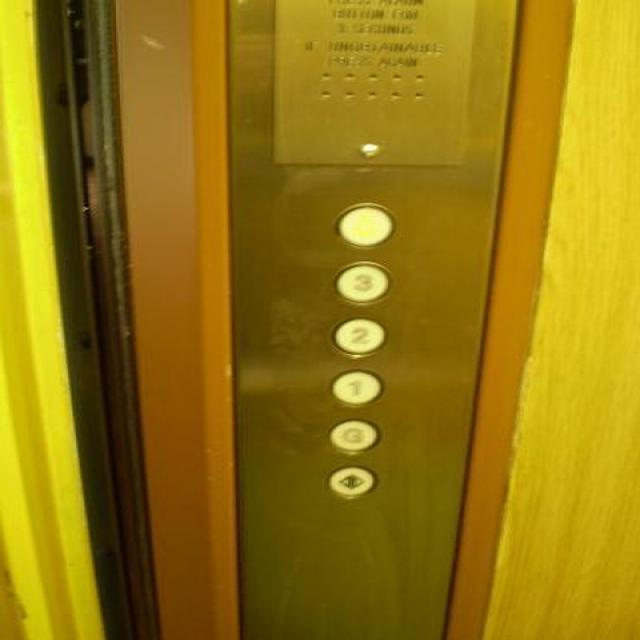1: (327, 366, 384, 407)
2: (326, 313, 391, 358)
3: (329, 258, 395, 305)
G: (326, 415, 382, 453)
empty: (333, 199, 398, 250)
open: (324, 462, 377, 499)
